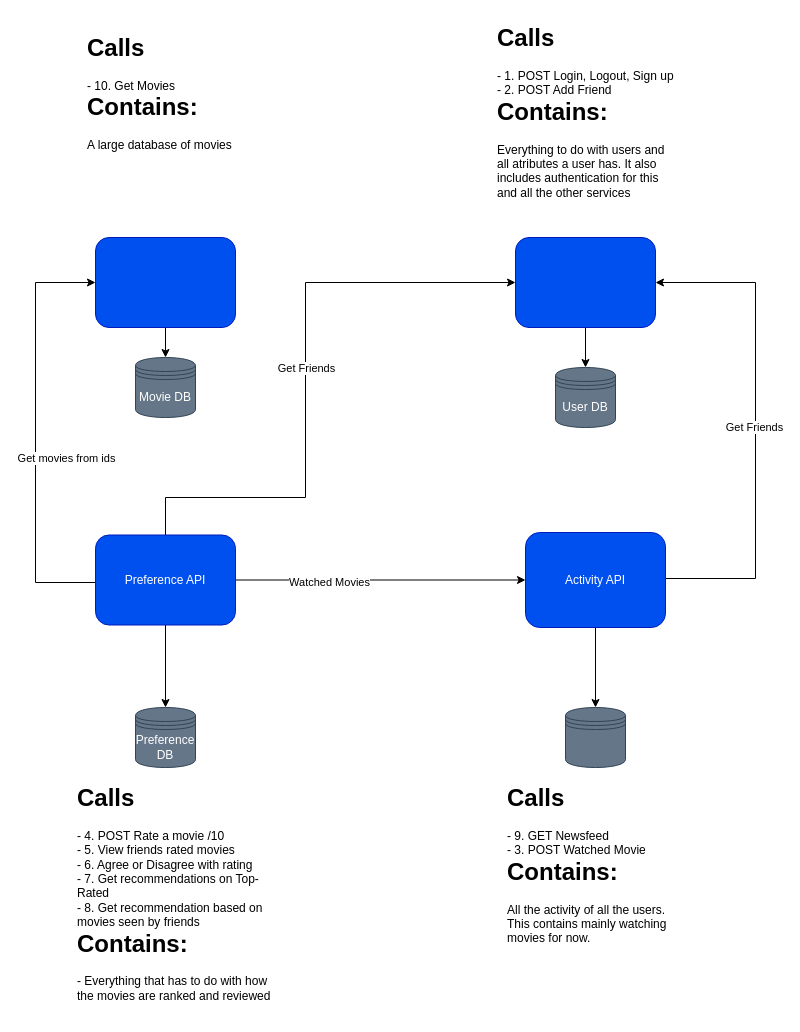
The diagram is 800 pixels wide and 1032 high, and some of its shapes have lost their labels. The shapes that lost their labels are listed below. From the top down, each one's box as (x1, y1, x2, y2) in pixels, then its label:
(94, 236, 236, 328): Movie API
(514, 236, 656, 328): User API
(564, 706, 626, 768): Activity DB
